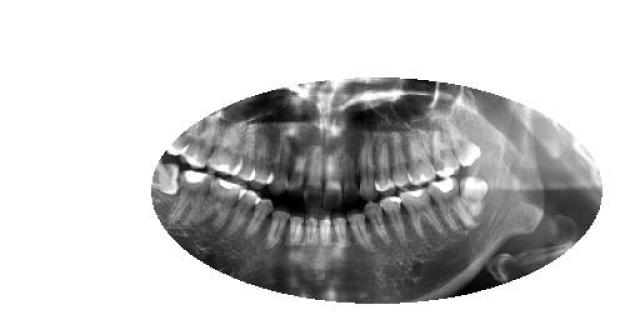Fillings: (168, 169, 214, 226), (428, 176, 473, 232), (431, 126, 461, 176)
Restorations: (150, 160, 181, 195)
